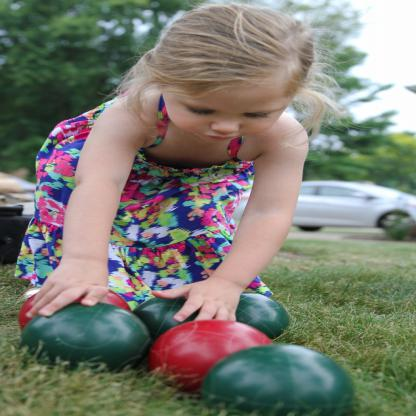Ball: (202, 346, 352, 415), (23, 302, 153, 376), (153, 318, 274, 395), (20, 290, 131, 327), (137, 299, 200, 336), (238, 294, 288, 340)
